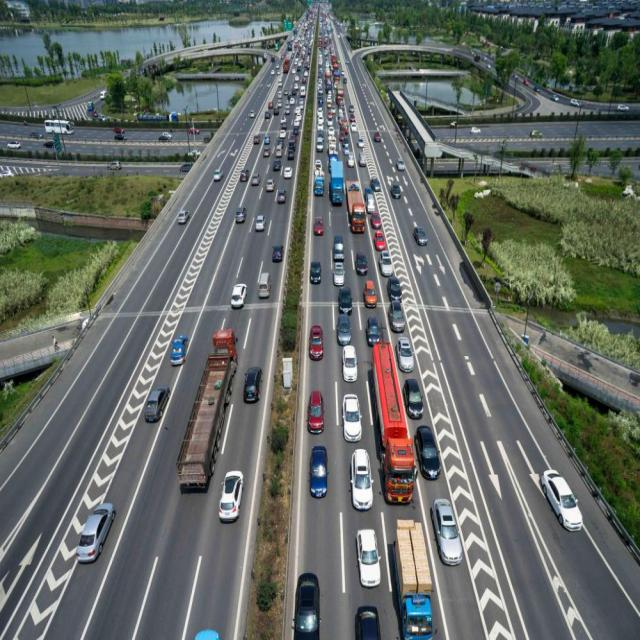point: (251, 0, 375, 120)
